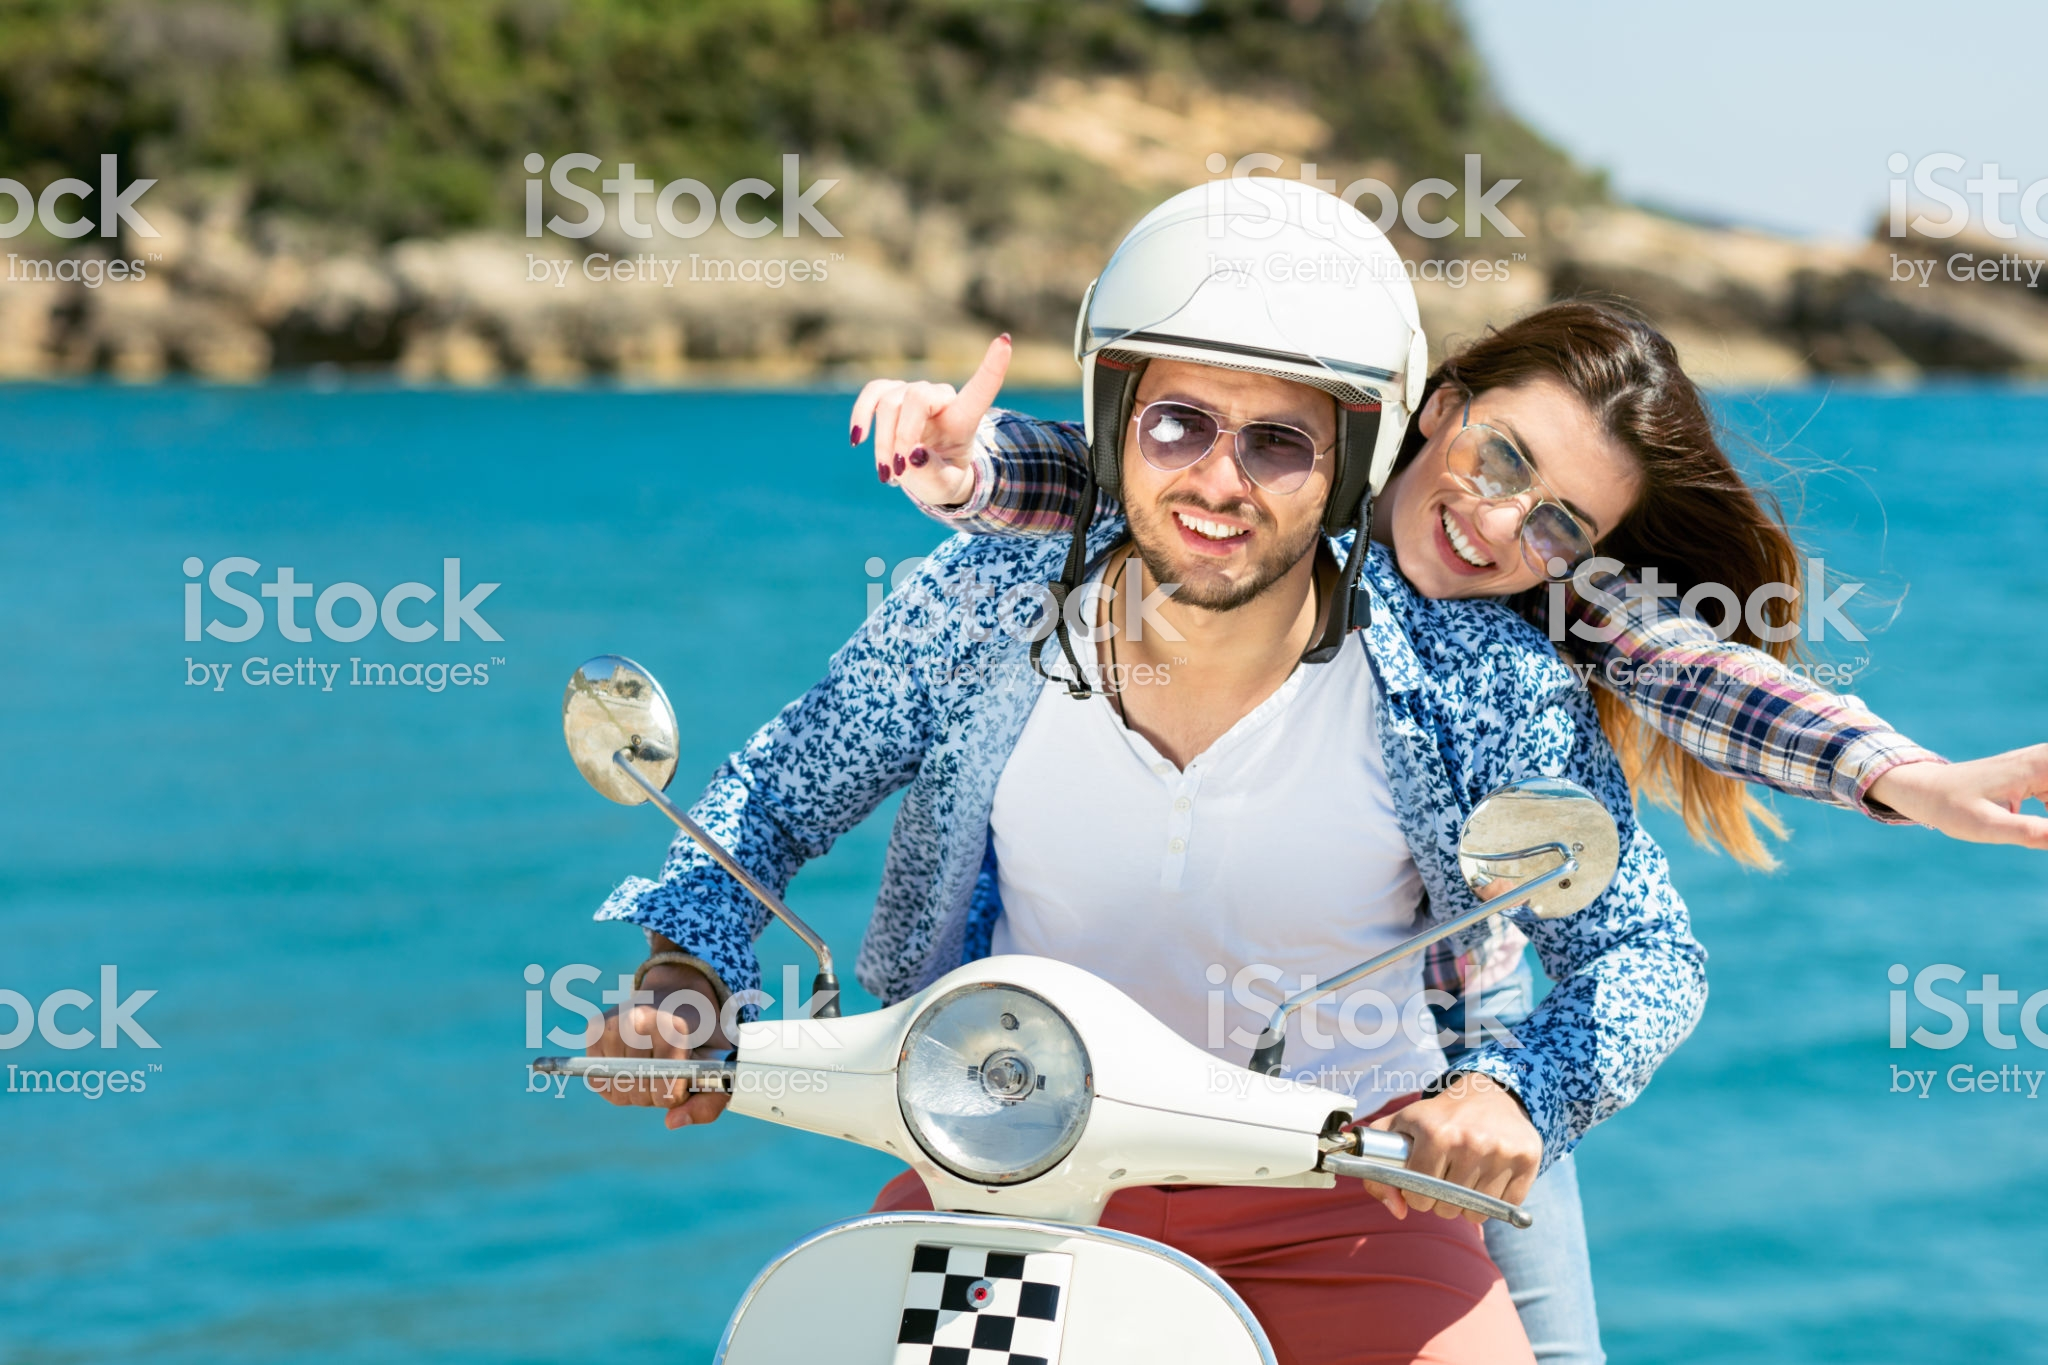helmet: (1086, 175, 1402, 515)
